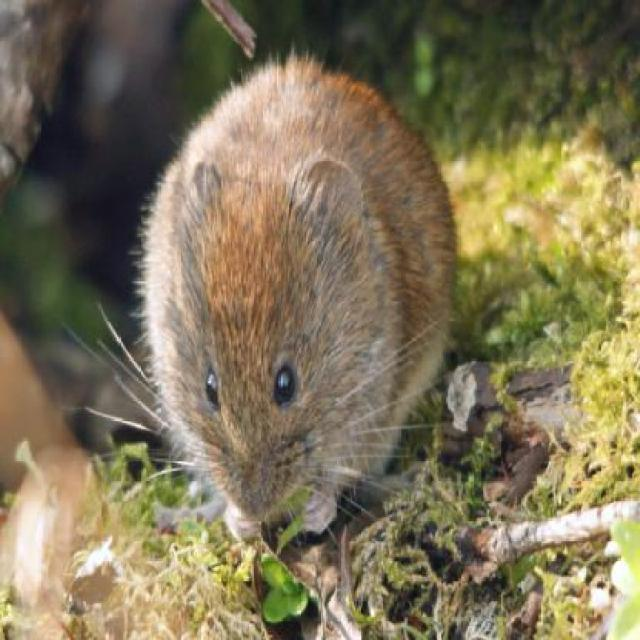Mouse: (128, 46, 468, 561)
